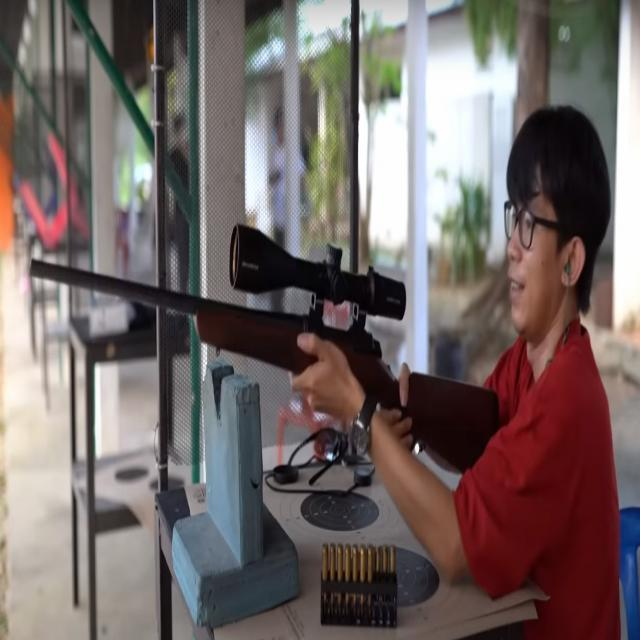rifle: (26, 202, 503, 503)
